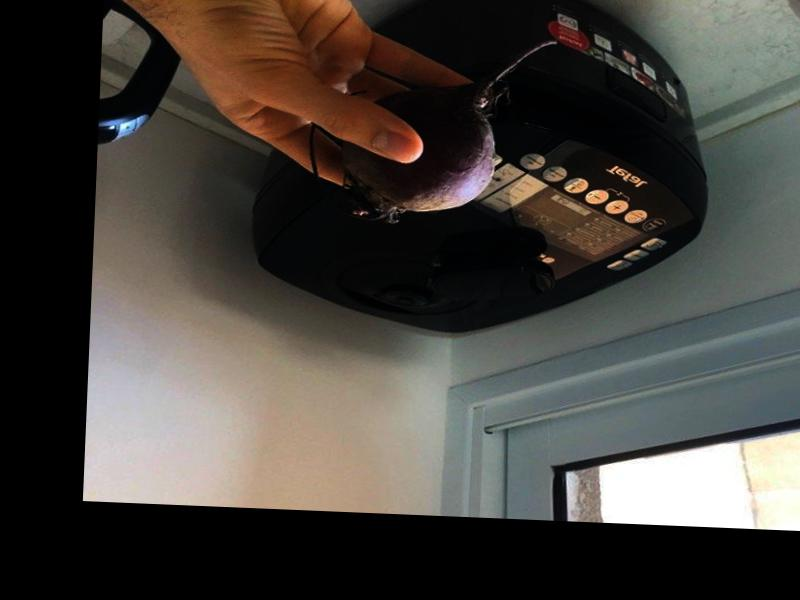Beet: (309, 27, 556, 230)
